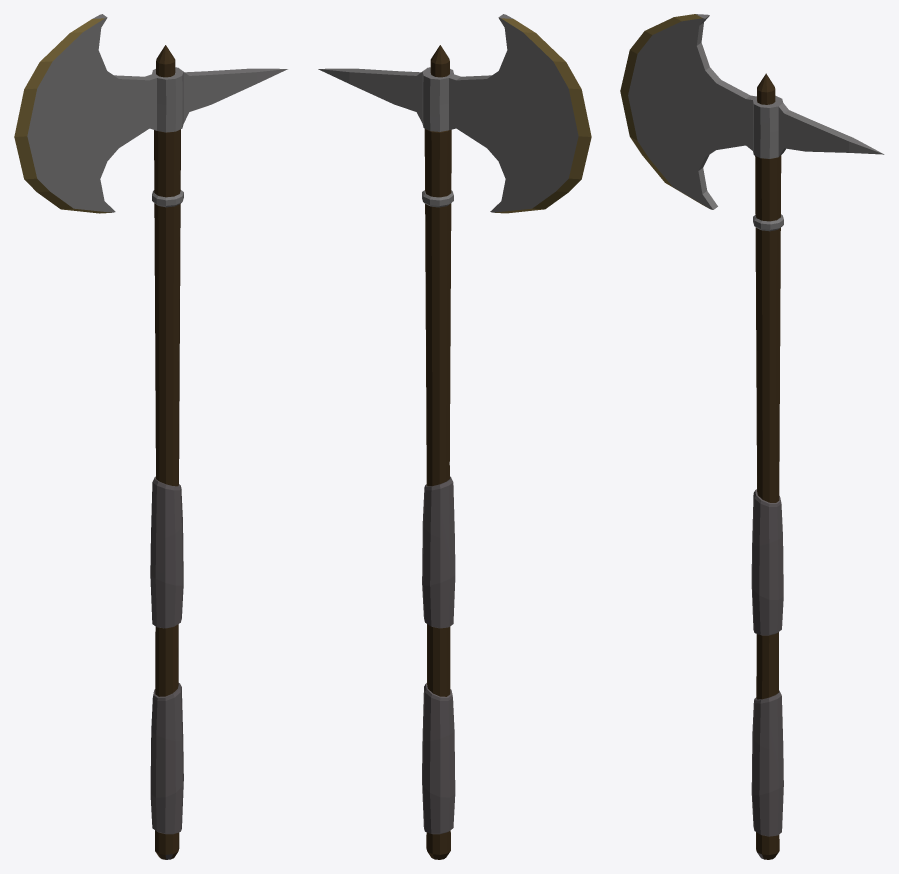
File: battle-axe.glb
3 views of the same model, side by side, from view 1: azimuth 30°, elevation 25°; view 2: azimuth 150°, elevation 25°; view 3: azimuth 330°, elevation 25° (orthographic). The views are drawn at different scales.
Parts seen in each view (by area): view 1: Axe 1; view 2: Axe 1; view 3: Axe 1.
Part boxes in pixels (x1,y1,x2,y2): Axe 1: [14, 14, 287, 859]; Axe 1: [318, 14, 591, 859]; Axe 1: [620, 14, 884, 859].
Bounding box in the file's own units: 0.5305 × 1.58 × 0.058.
